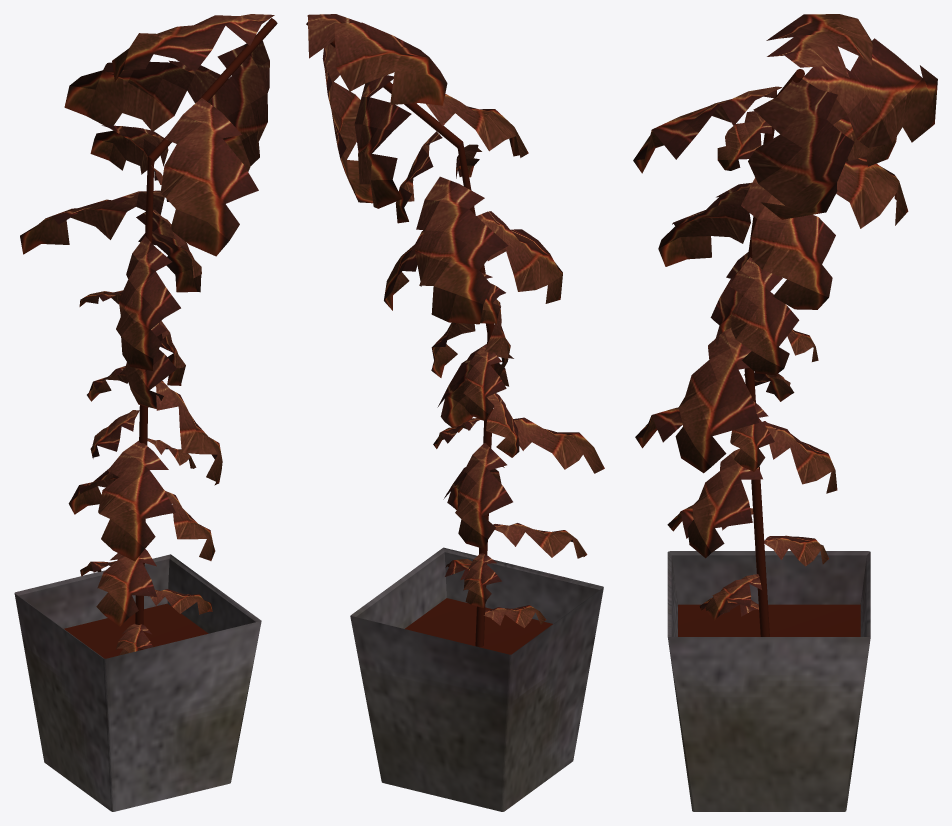
Rendered from SM_Plant_Dead.fbx.
3 views of the same model, side by side, from view 1: azimuth 30°, elevation 25°; view 2: azimuth 150°, elevation 25°; view 3: azimuth 270°, elevation 25° (orthographic). The views are drawn at different scales.
Visible parts, largest first — view 1: SM_Plant_Dead; view 2: SM_Plant_Dead; view 3: SM_Plant_Dead.
Boxes of the visible parts, x1,y1,x2,y2 form: SM_Plant_Dead: [14, 14, 277, 811]; SM_Plant_Dead: [306, 14, 604, 811]; SM_Plant_Dead: [633, 14, 937, 811].
Size of the model in its own units: 44.71 by 132 by 45.65.
